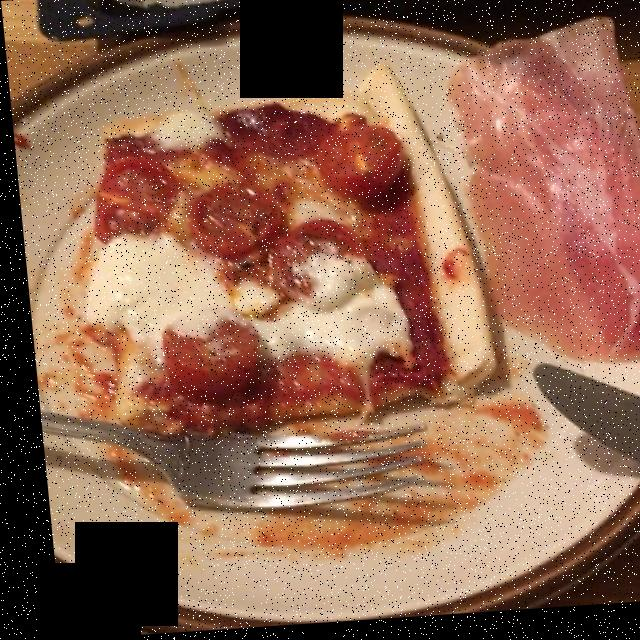ham-raw: (455, 38, 640, 362)
pizza-margherita-baked: (75, 103, 477, 431)
